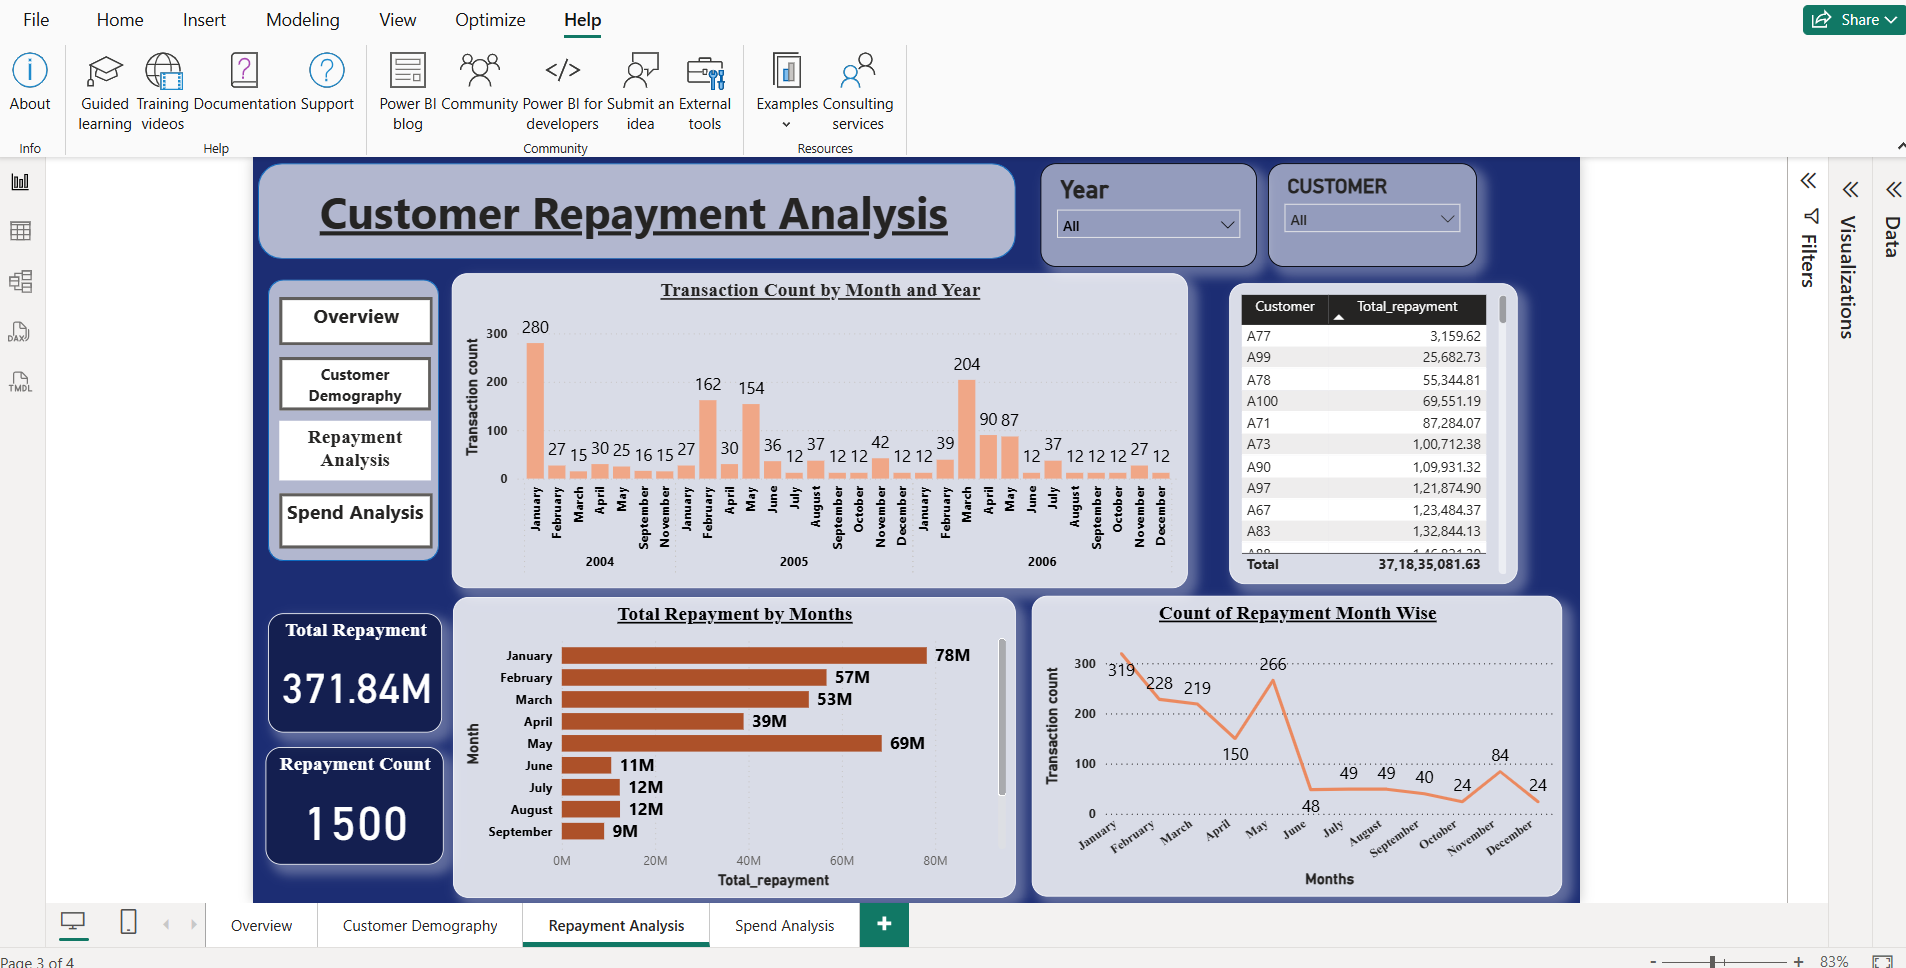

The page's visual inventory and layout, read from the dashboard file:
{"tool":"powerbi","page":{"name":"Repayment  Analysis","canvas":[1280,720],"ordinal":2},"visuals":[{"type":"slicer","fields":{"Values":["Repayment.Month.Variation.Date Hierarchy.Year"]},"box":[760.1,6.1,209,99.9],"z":0},{"type":"slicer","fields":{"Values":["Repayment.Customer"]},"box":[979,6.5,201.6,100],"z":1000},{"type":"shape","box":[4.5,6.1,731.4,92.4],"z":2000},{"type":"card","title":"Total Repayment","fields":{"Values":["Repayment.Tot_repayment"]},"box":[15,440,168.3,115],"z":3000},{"type":"card","title":"Repayment Count","fields":{"Values":["Repayment.transactionCount"]},"box":[11.7,570,171.7,113.3],"z":4000},{"type":"columnChart","title":"Transaction Count by Month and Year","fields":{"Category":["Repayment.Month.Variation.Date Hierarchy.Year","Repayment.Month.Variation.Date Hierarchy.Month"],"Y":["Repayment.transactionCount"]},"box":[192,112,710,304],"z":5000},{"type":"clusteredBarChart","title":"Total Repayment by Months","fields":{"Category":["Repayment.Month.Variation.Date Hierarchy.Month"],"Y":["Repayment.Tot_repayment"]},"box":[192.9,424.3,542.9,290],"z":6000},{"type":"lineChart","title":"Count of Repayment Month Wise","fields":{"Y":["Repayment.transactionCount"],"Category":["Repayment.Month.Variation.Date Hierarchy.Month"]},"box":[752,424,512,290],"z":7000},{"type":"tableEx","fields":{"Values":["Repayment.Customer","Repayment.Tot_repayment"]},"box":[942,122,278,290],"z":8000},{"type":"textbox","box":[19.7,18.2,696.5,71.2],"z":9000},{"type":"shape","box":[15,118.3,165,271.7],"z":10000},{"type":"textbox","box":[25.1,194,146.5,50.7],"z":11000},{"type":"textbox","box":[25.1,254.6,146.5,57.7],"z":12000},{"type":"textbox","box":[25.3,324.9,146.9,53],"z":13000},{"type":"actionButton","box":[25,193.3,146.7,51.7],"z":14000},{"type":"textbox","box":[26.7,135,146.7,46.7],"z":15000},{"type":"actionButton","box":[25,325,148.3,53.3],"z":16000},{"type":"actionButton","box":[25,135,148.3,46.7],"z":17000}]}

Visuals, with their boxes on the page's 1280x720 design canvas (x1, y1, x2, y2). These are canvas units, not pixel positions in the 1906x968 screenshot, which may show the page scaled, cropped or inside an application window:
slicer - Repayment.Month.Variation.Date Hierarchy.Year: {"x1": 760, "y1": 6, "x2": 969, "y2": 106}
slicer - Repayment.Customer: {"x1": 979, "y1": 6, "x2": 1181, "y2": 106}
shape: {"x1": 4, "y1": 6, "x2": 736, "y2": 98}
"Total Repayment" card: {"x1": 15, "y1": 440, "x2": 183, "y2": 555}
"Repayment Count" card: {"x1": 12, "y1": 570, "x2": 183, "y2": 683}
"Transaction Count by Month and Year" columnChart: {"x1": 192, "y1": 112, "x2": 902, "y2": 416}
"Total Repayment by Months" clusteredBarChart: {"x1": 193, "y1": 424, "x2": 736, "y2": 714}
"Count of Repayment Month Wise" lineChart: {"x1": 752, "y1": 424, "x2": 1264, "y2": 714}
tableEx - Repayment.Customer x Repayment.Tot_repayment: {"x1": 942, "y1": 122, "x2": 1220, "y2": 412}
textbox: {"x1": 20, "y1": 18, "x2": 716, "y2": 89}
shape: {"x1": 15, "y1": 118, "x2": 180, "y2": 390}
textbox: {"x1": 25, "y1": 194, "x2": 172, "y2": 245}
textbox: {"x1": 25, "y1": 255, "x2": 172, "y2": 312}
textbox: {"x1": 25, "y1": 325, "x2": 172, "y2": 378}
actionButton: {"x1": 25, "y1": 193, "x2": 172, "y2": 245}
textbox: {"x1": 27, "y1": 135, "x2": 173, "y2": 182}
actionButton: {"x1": 25, "y1": 325, "x2": 173, "y2": 378}
actionButton: {"x1": 25, "y1": 135, "x2": 173, "y2": 182}
